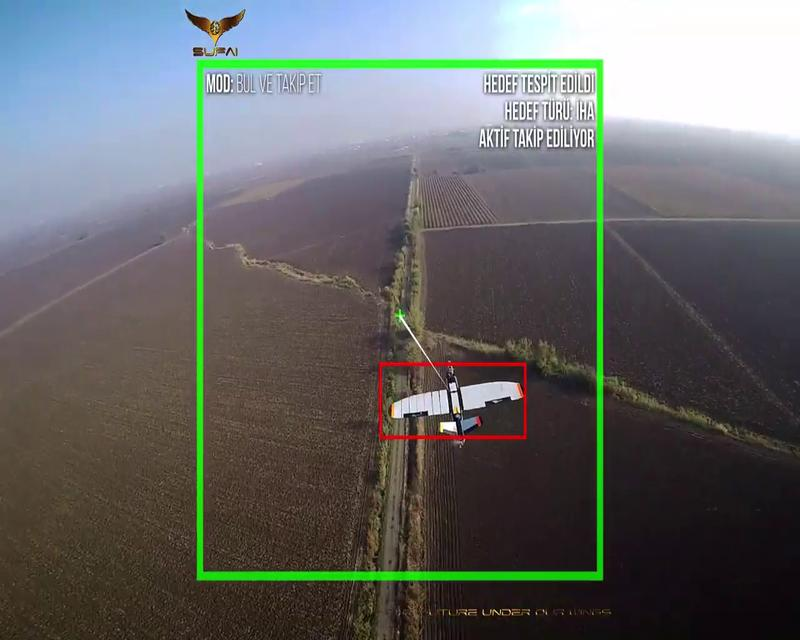UAV: (383, 367, 524, 436)
